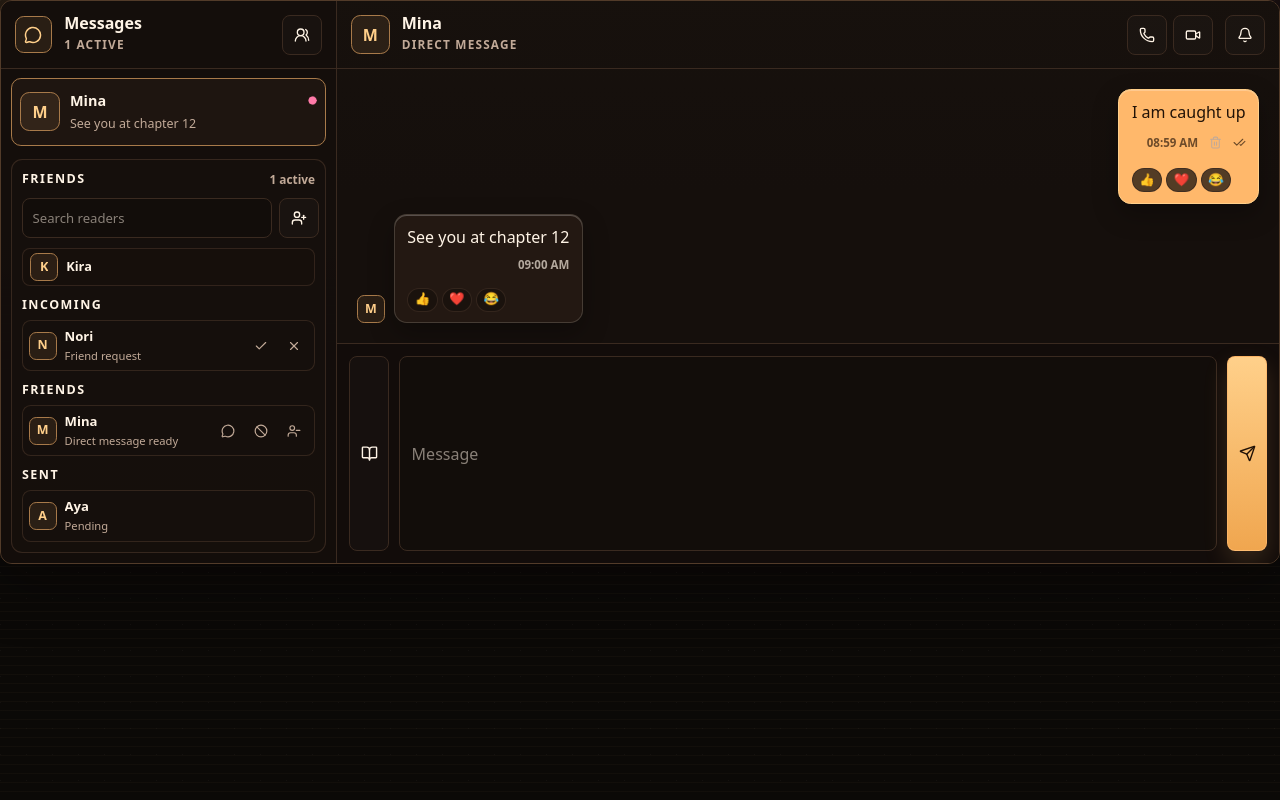
Test: SocialChatPage › soft-deletes the current user's message
The image size is (1280, 800).
Expected: the text "I am caught up" is shown, [1132,101,1246,124]
Click the button named "Delete message": (1215, 142) [1204,131,1227,154]
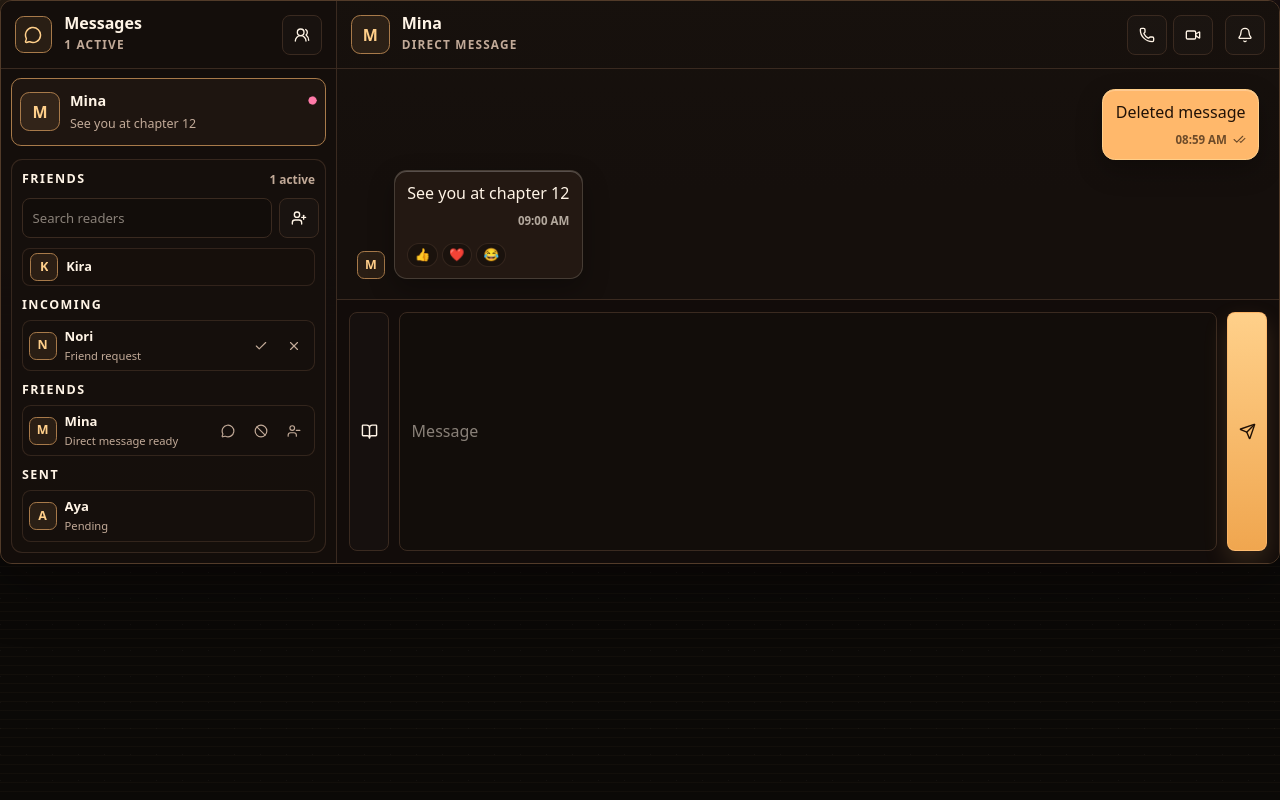
Result: the text "Deleted message" is shown at [1116,101,1246,124]
